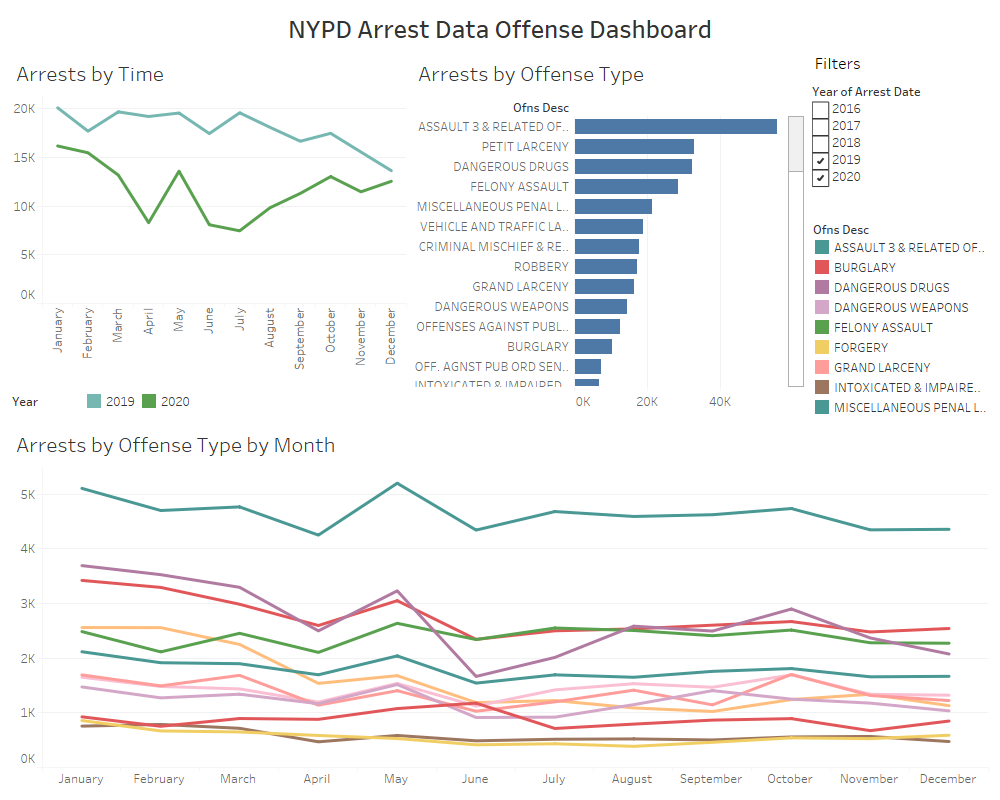

Layout of this report page (visuals, bound fields, positions):
{"tool":"tableau","page":{"name":"NYPD Arrest Data Offense Dashboard","canvas":[1000,800],"ordinal":1},"visuals":[{"type":"title","box":[8,8,984,41]},{"type":"worksheet","title":"Arrests by Time","mark":"Line","rows":["ARREST_DATE"],"cols":["ARREST_DATE"],"box":[8,49,402,338.4]},{"type":"worksheet","title":"Arrests by Offense Type","mark":"Automatic","rows":["OFNS_DESC"],"cols":["ARREST_DATE"],"box":[410,49,398,371.5]},{"type":"text","box":[808,49,184,29]},{"type":"filter","title":"Arrests by Offense Type by Month","param":"[federated.0u0g2jr0y9b0lh1fggo9v036ljvq].[yr:ARREST_DATE:ok]","box":[808,78,184,147]},{"type":"legend","title":"Arrests by Offense Type by Month","param":"[federated.0u0g2jr0y9b0lh1fggo9v036ljvq].[none:OFNS_DESC:nk]","box":[808,225,184,195.5]},{"type":"legend","title":"Arrests by Time","param":"[federated.0u0g2jr0y9b0lh1fggo9v036ljvq].[yr:ARREST_DATE:ok]","box":[8,387.4,402,33]},{"type":"worksheet","title":"Arrests by Offense Type by Month","mark":"Automatic","rows":["ARREST_DATE"],"cols":["ARREST_DATE"],"box":[8,420.5,984,371.5]}]}

Visuals, with their boxes in screenshot pixels (x1, y1, x2, y2), scaled from the page's 1000x800 canvas onto the 1000x800 screenshot:
title: bbox=(8, 8, 992, 49)
"Arrests by Time" worksheet (Line marks): bbox=(8, 49, 410, 387)
"Arrests by Offense Type" worksheet: bbox=(410, 49, 808, 420)
text: bbox=(808, 49, 992, 78)
"Arrests by Offense Type by Month" filter: bbox=(808, 78, 992, 225)
"Arrests by Offense Type by Month" legend: bbox=(808, 225, 992, 420)
"Arrests by Time" legend: bbox=(8, 387, 410, 420)
"Arrests by Offense Type by Month" worksheet: bbox=(8, 420, 992, 792)
